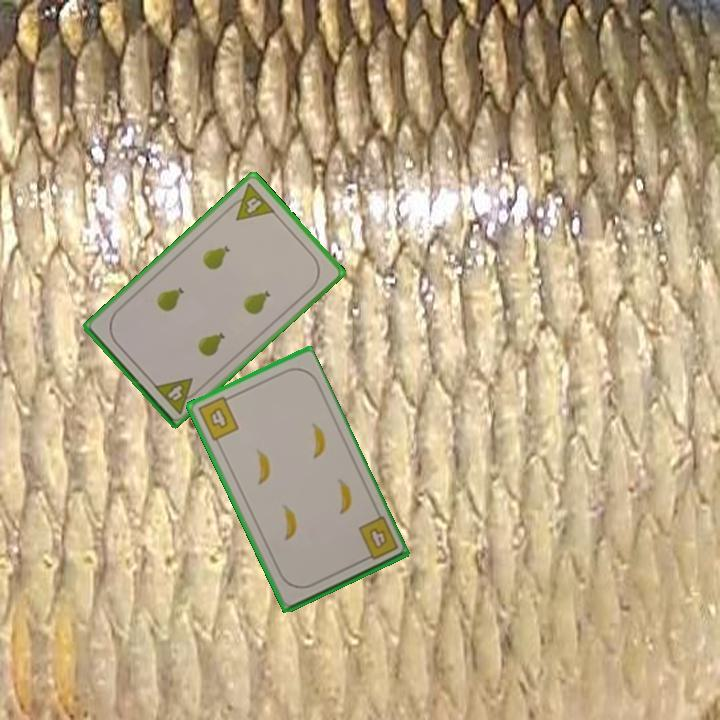4b: (194, 392, 242, 444), (354, 513, 401, 564)
4p: (223, 179, 278, 223), (150, 374, 204, 417)
